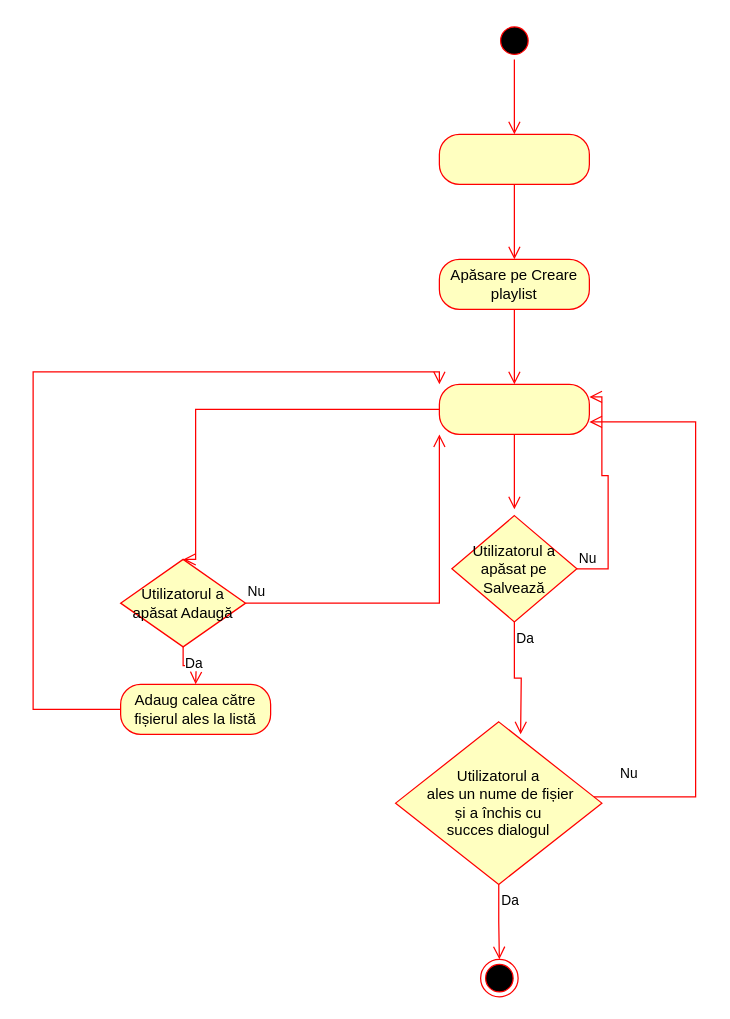
The diagram is 730 pixels wide and 1019 high, and some of its shapes have lost their labels. The shapes that lost their labels are listed below. From the top down, each one's centre as x and y in pixels, then its label:
point 513,158: Apăsare pe Meniu
point 513,408: Afișez lista curentă de melodii
